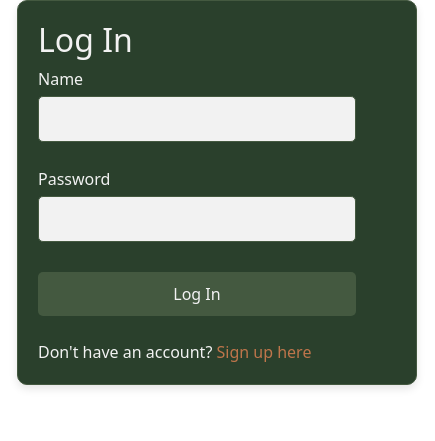
receiving a non-json file
Type "testUser" into the field with test id "login-username". click: (197, 119)
box: x1=38 y1=96 x2=356 y2=142
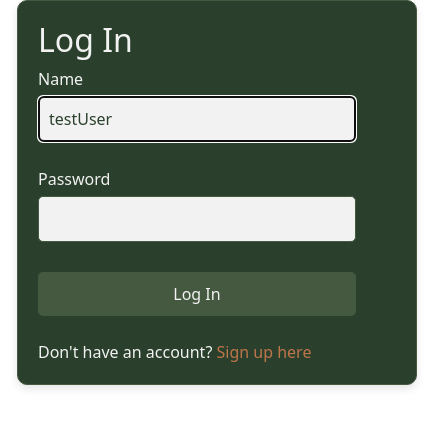
Type "testPassword" into the password field with test id "login-password". click: (197, 219)
box: x1=38 y1=196 x2=356 y2=242
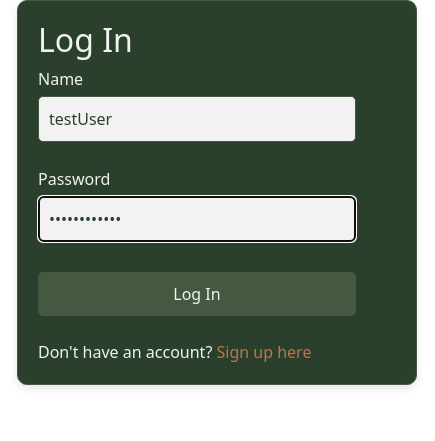
Click the button "Log In". click: (197, 294)
box: x1=38 y1=272 x2=356 y2=316
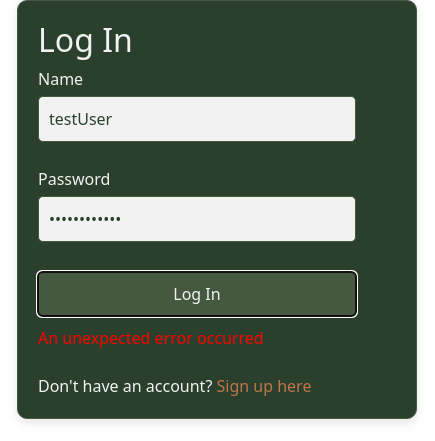
Now the text with test id "login-error" reads "An unexpected error occurred", box x1=38 y1=327 x2=264 y2=349
